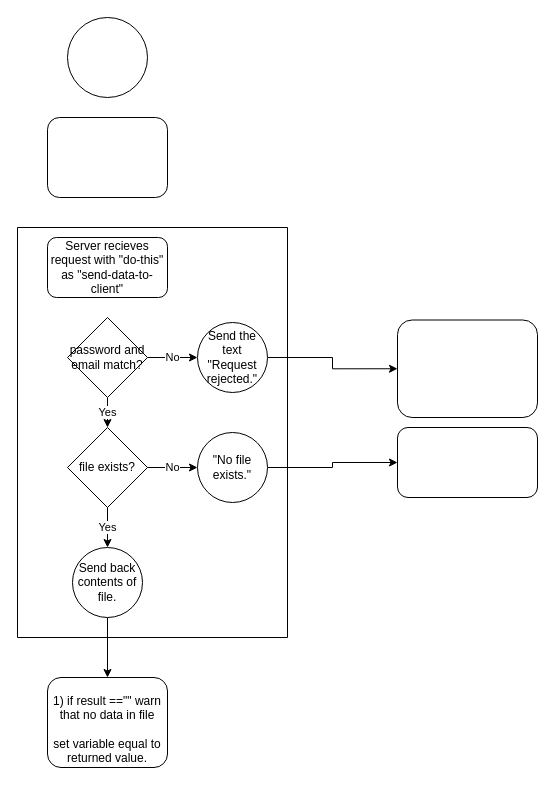
This 555x785 diagram has some shape labels left out. The centre of each missing label's shape, as x and y in pixels:
if "No file exists." alert: point 467,462
if "Request Rejected" alert.: point 467,368
User requests load remote data: point 107,57
XMLHttpRequest POST: 1) email 2) password 3) name of file: point 107,157
